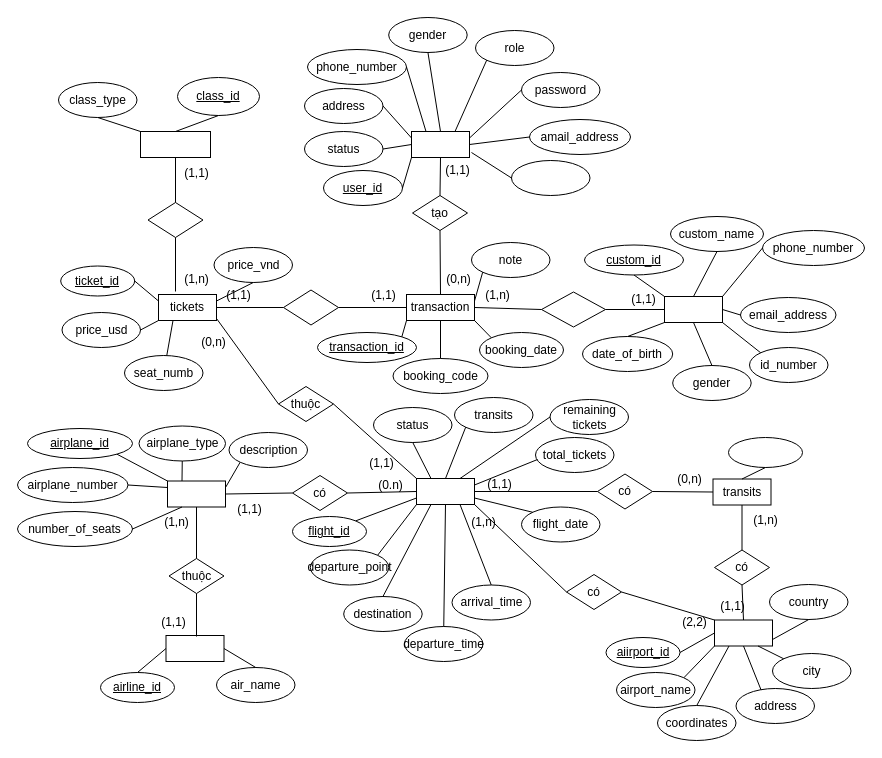
The diagram is 882 pixels wide and 758 high, and some of its shapes have lost their labels. The shapes that lost their labels are listed below. From the top down, each one's centre as x and y in pixels, then its label:
[175,144]: ticket_class
[440,144]: User
[550,178]: user_name
[175,220]: Gồm
[310,307]: dùng để tạo
[573,309]: Thuộc vê
[693,309]: customer
[765,452]: transit_id
[196,493]: airplanes
[445,491]: flights
[194,648]: airlines
[743,632]: airport
